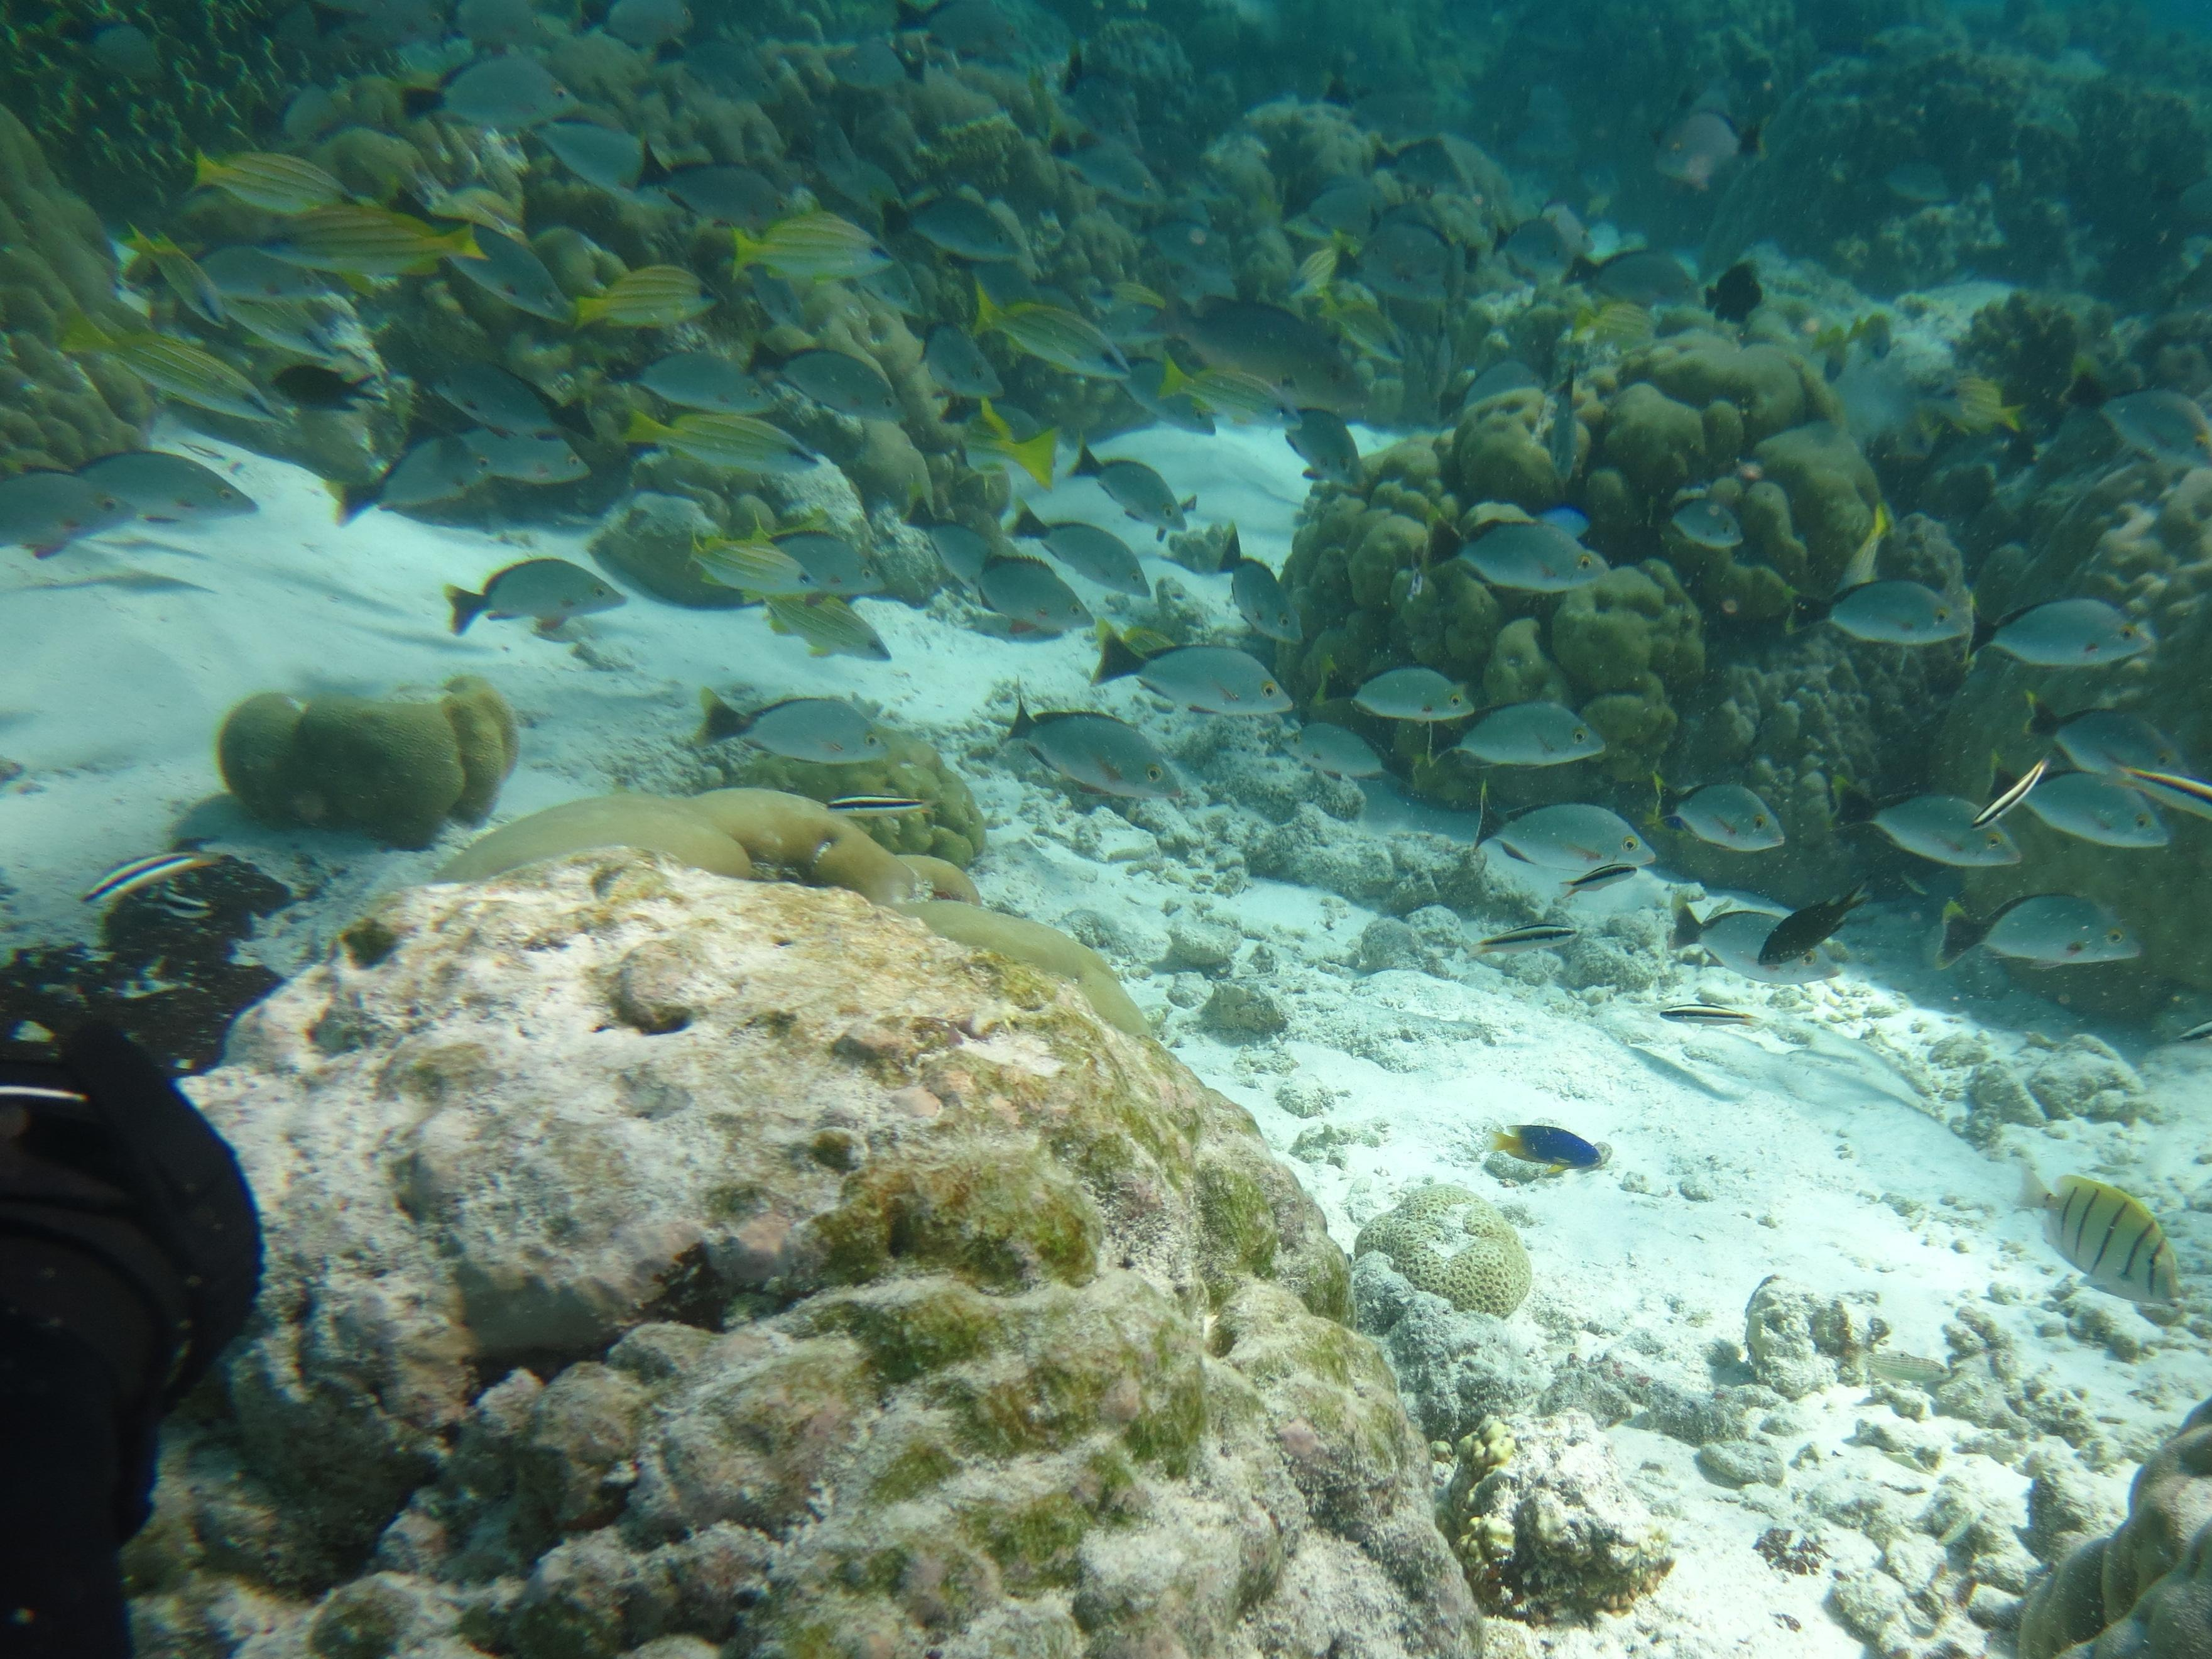Fish: (48, 307, 281, 427), (966, 275, 1138, 388), (623, 406, 826, 482), (252, 205, 481, 273), (682, 513, 822, 603), (568, 263, 722, 332)
